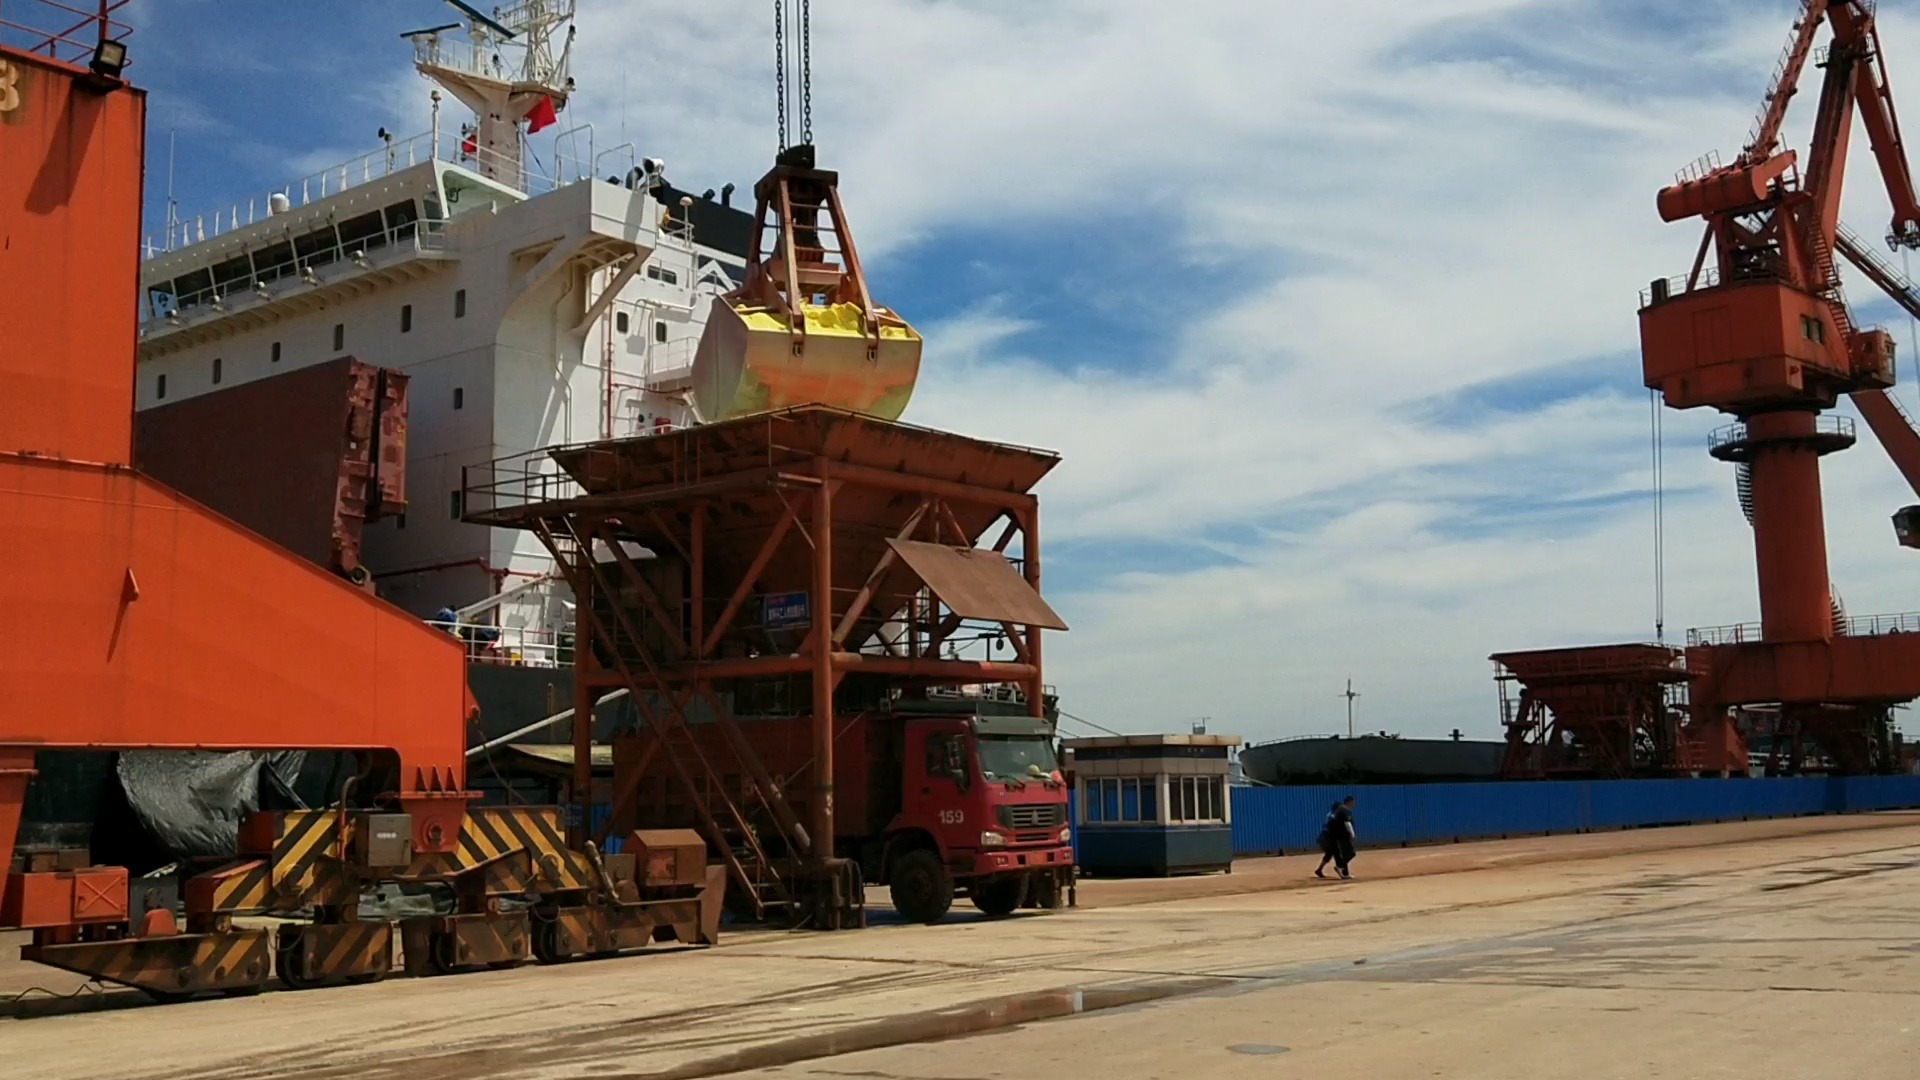grab: (678, 113, 927, 435)
truck: (840, 682, 1089, 915)
